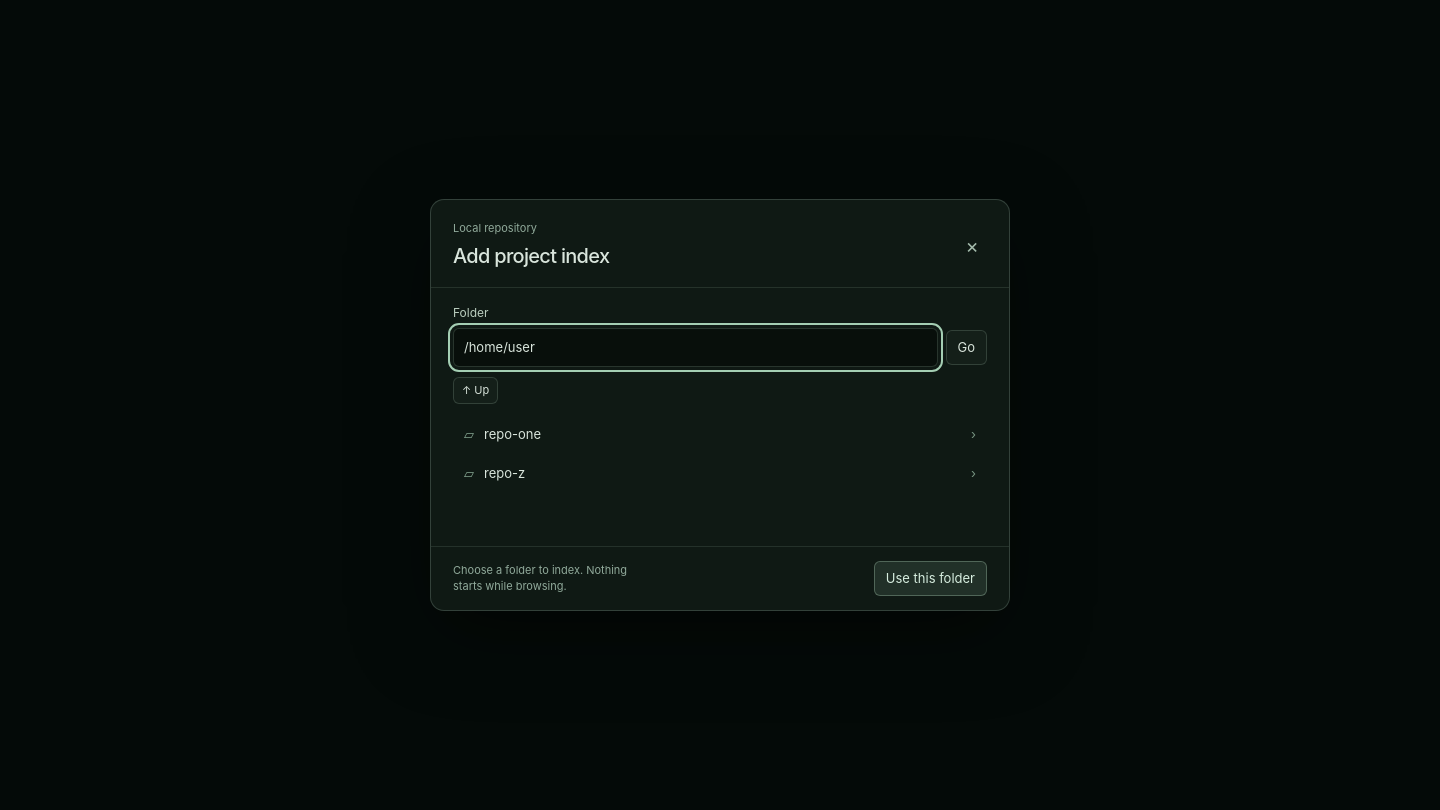
Scenario: AddProjectIndexDialog › requires correct project readback before completion: wrong-folder
The image size is (1440, 810).
Click the button "▱ repo-one ›".
click(513, 434)  # box [453,414,987,454]
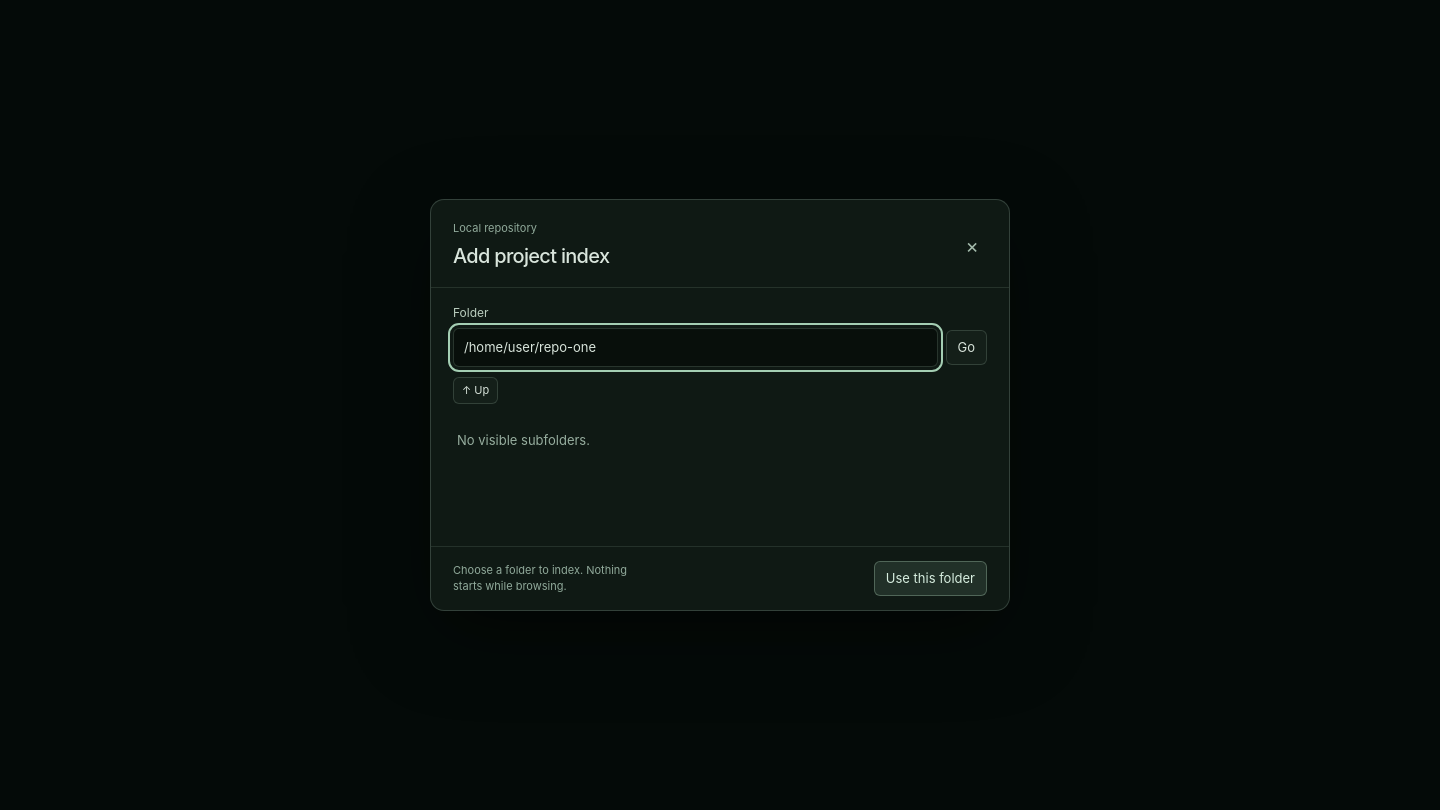
Click the button "Use this folder".
click(930, 578)  # box [874,560,987,596]
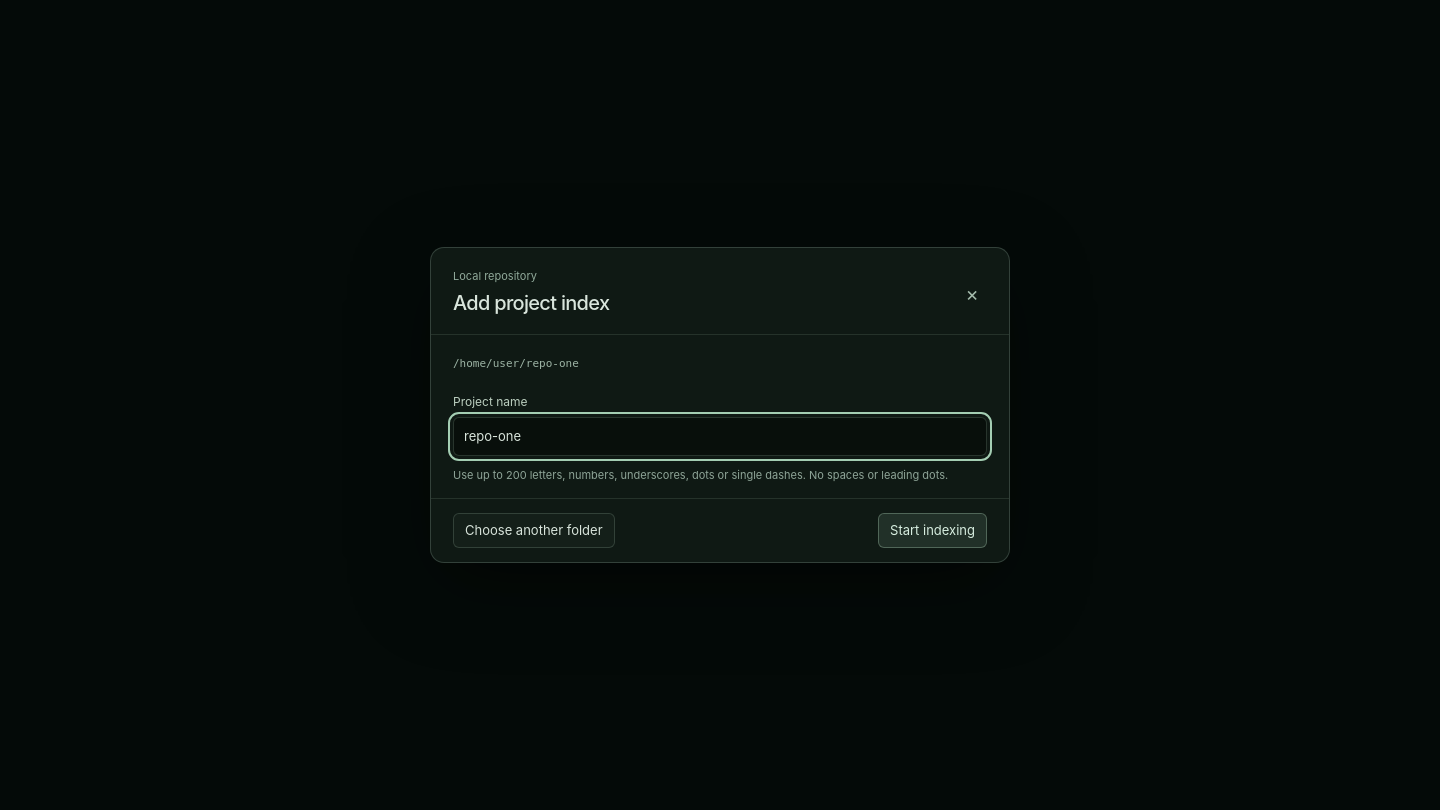
Click the button "Start indexing".
click(932, 531)  # box [878,513,987,548]
Wait 25 ms
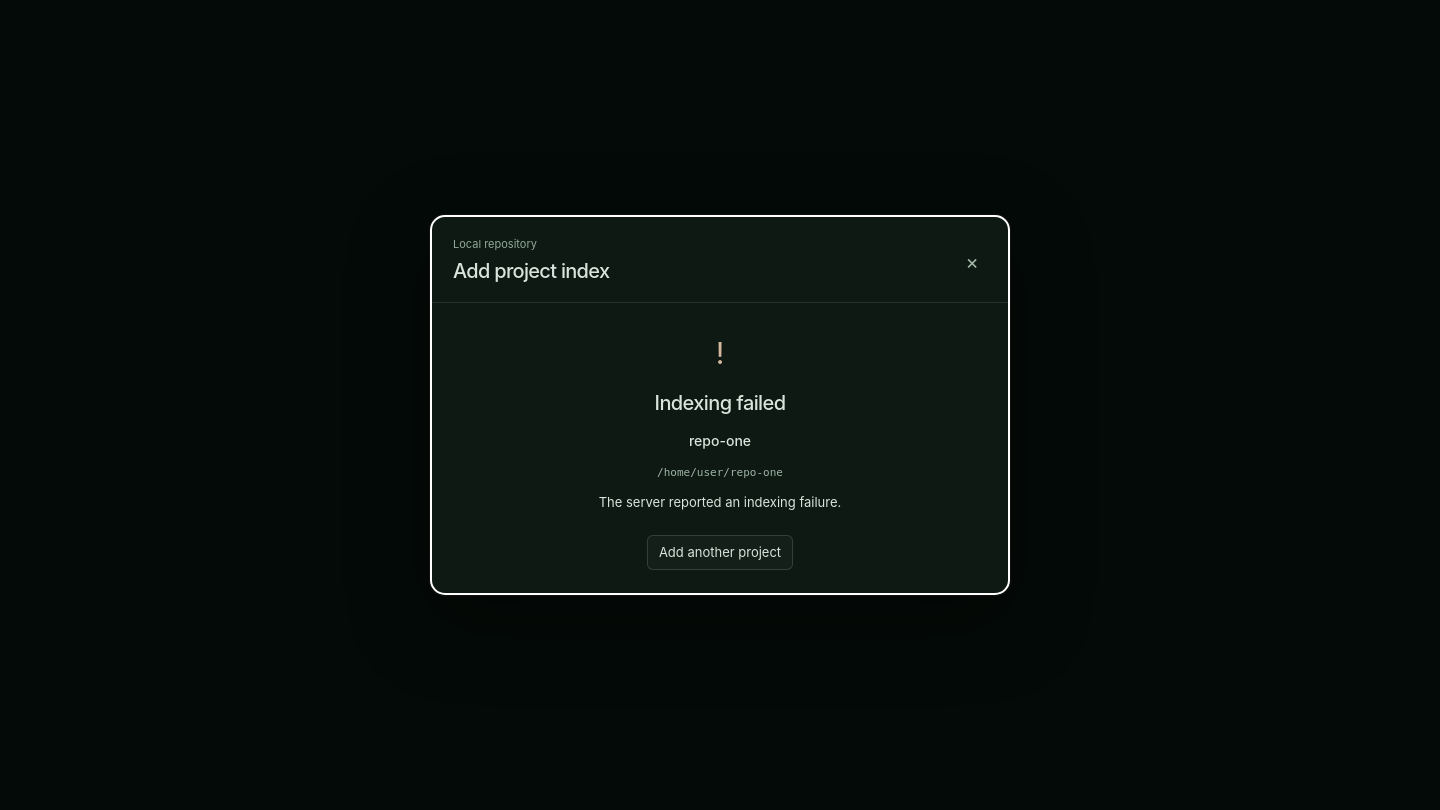
expect the text "Indexing failed" is shown: met, box [654,391,785,415]
